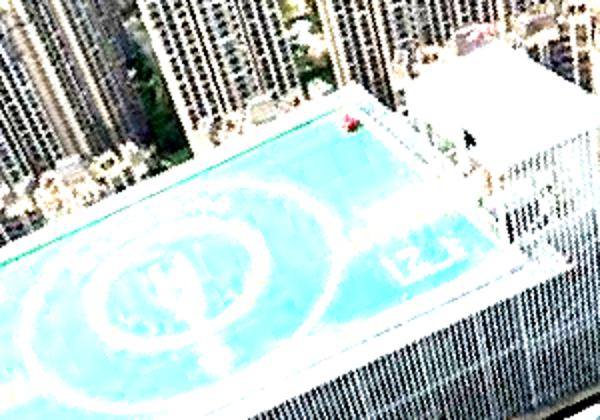Apron: (81, 209, 286, 357)
